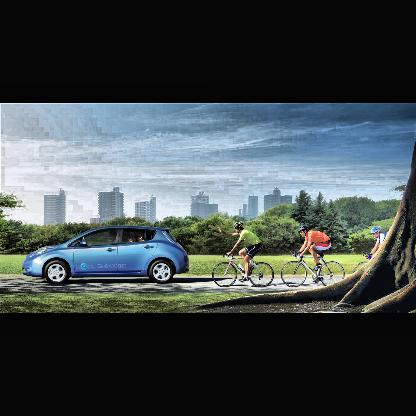Nissan Leaf Hatchback 2012: (21, 224, 193, 286)
